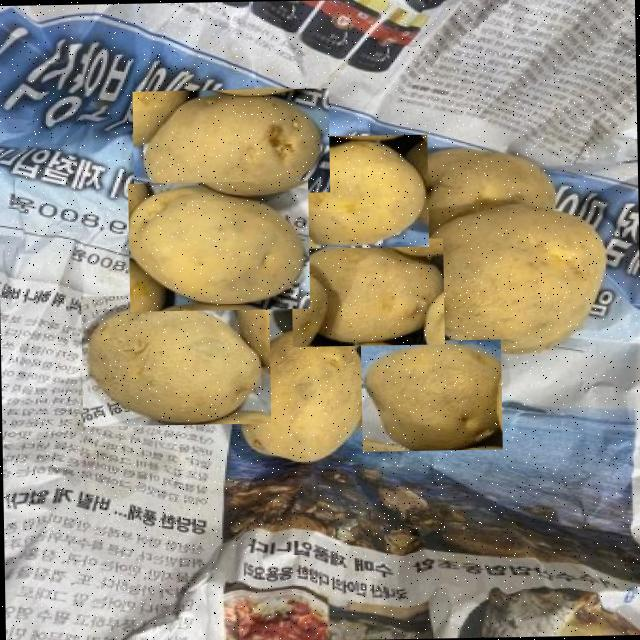Potato: (405, 207, 616, 362), (80, 293, 270, 426), (128, 180, 310, 312), (132, 88, 330, 195), (234, 330, 370, 468), (271, 134, 429, 249), (400, 142, 558, 252), (290, 238, 444, 346), (360, 339, 502, 451)
